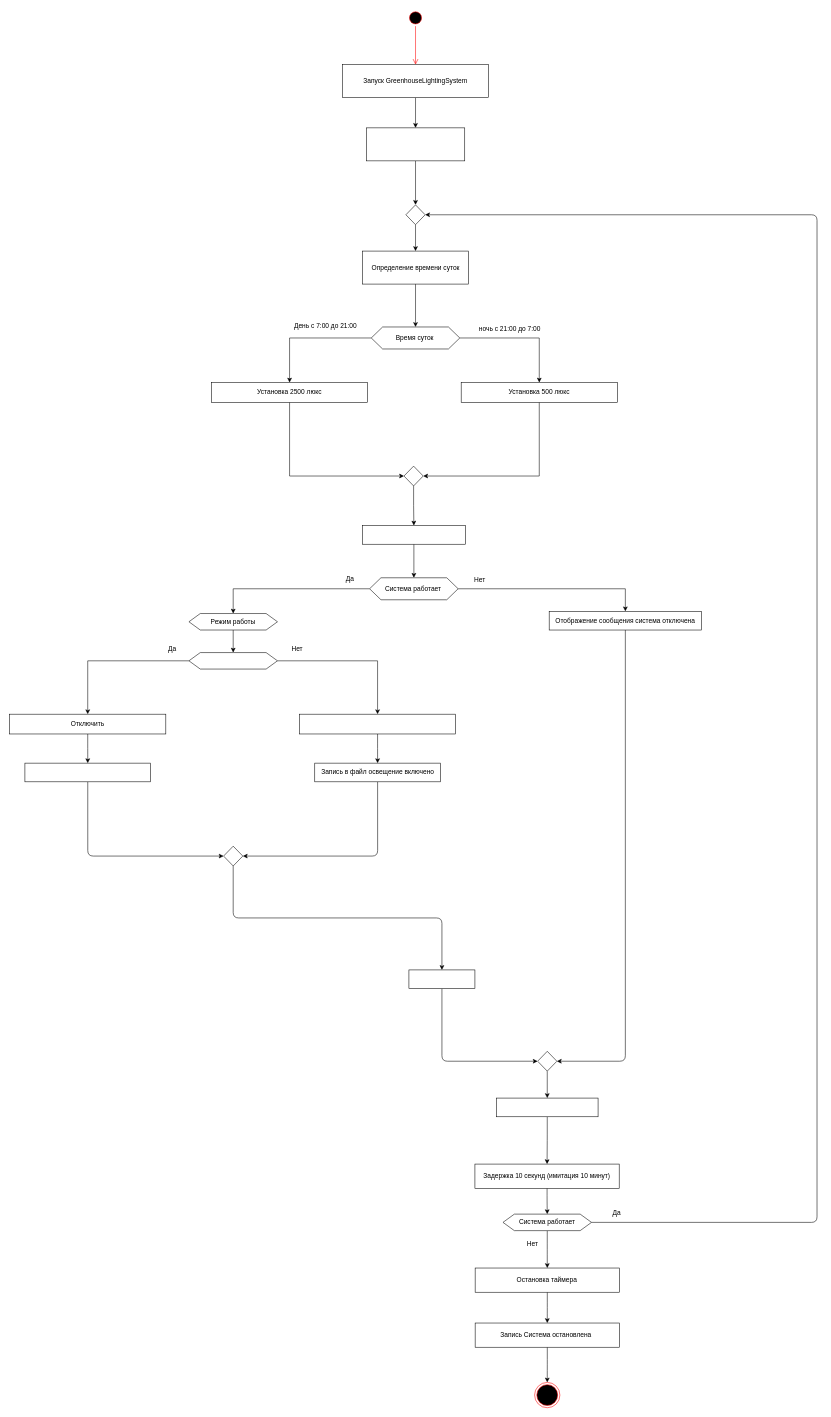
This 831x1417 diagram has some shape labels left out. The shapes that lost their labels are listed below. From the top down, each one's box as (x1, y1, x2, y2) in pixels, then its label:
(366, 127, 465, 161): Инициализация компонентов
(362, 525, 465, 544): Считывание данных с датчика
(188, 652, 277, 669): освещенность больше
(299, 714, 456, 734): Включить освещение
(24, 763, 151, 782): Запись в файл освещение отключено
(408, 969, 475, 989): Запись в файл
(496, 1098, 598, 1117): Обновление интерфейса
